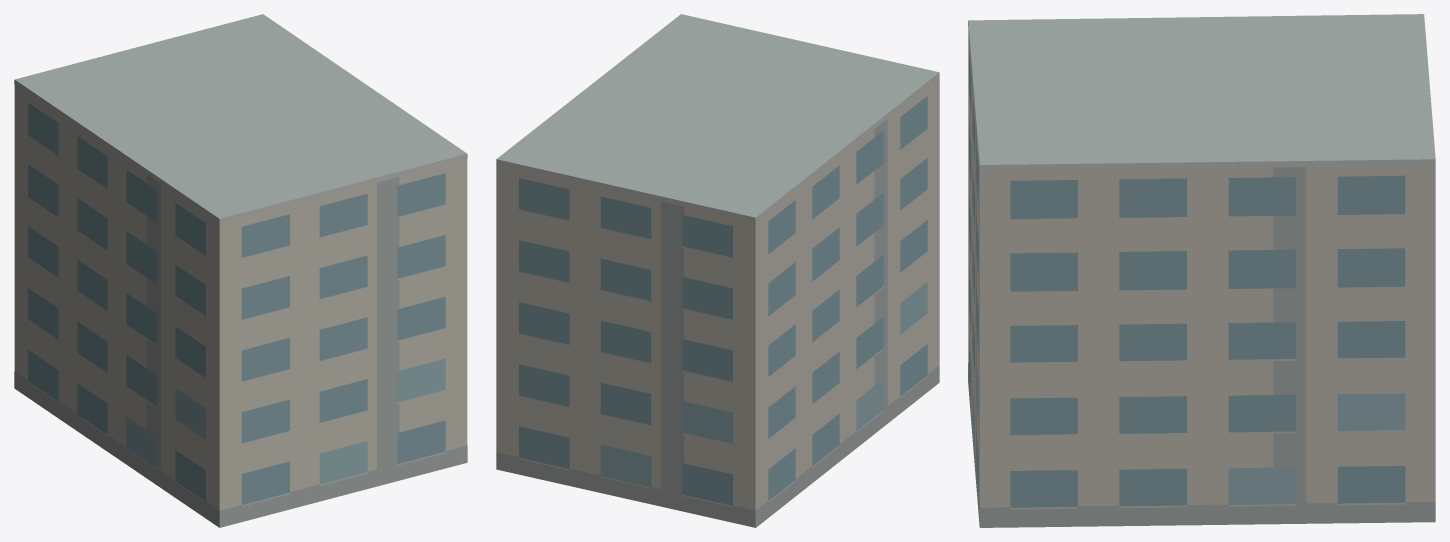
File: survey-upis-33041511.glb
3 views of the same model, side by side, from view 1: azimuth 30°, elevation 25°; view 2: azimuth 150°, elevation 25°; view 3: azimuth 270°, elevation 25° (orthographic). The views are drawn at different scales.
Visible parts, largest first — view 1: survey-upis-33041511.tmp; view 2: survey-upis-33041511.tmp; view 3: survey-upis-33041511.tmp.
Part boxes in pixels (x1,y1,x2,y2): survey-upis-33041511.tmp: (14, 14, 467, 527); survey-upis-33041511.tmp: (496, 14, 939, 527); survey-upis-33041511.tmp: (968, 14, 1435, 527).
Size of the model in its own units: 12.91 by 14.45 by 16.88.
